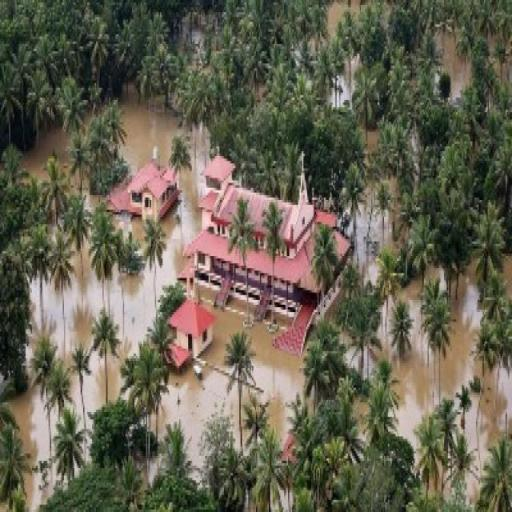flood: (104, 85, 209, 401), (159, 298, 243, 474), (442, 267, 512, 456), (384, 281, 438, 448), (42, 245, 104, 367), (248, 322, 304, 444), (8, 386, 55, 512), (434, 29, 472, 103), (71, 352, 105, 429), (23, 128, 70, 177), (328, 0, 371, 39), (330, 60, 358, 103), (27, 281, 42, 360), (362, 224, 383, 276), (506, 255, 512, 296)
house: (190, 192, 329, 318), (167, 298, 217, 368), (130, 160, 178, 226)
